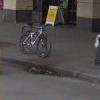Bicycle: (16, 20, 54, 61)
